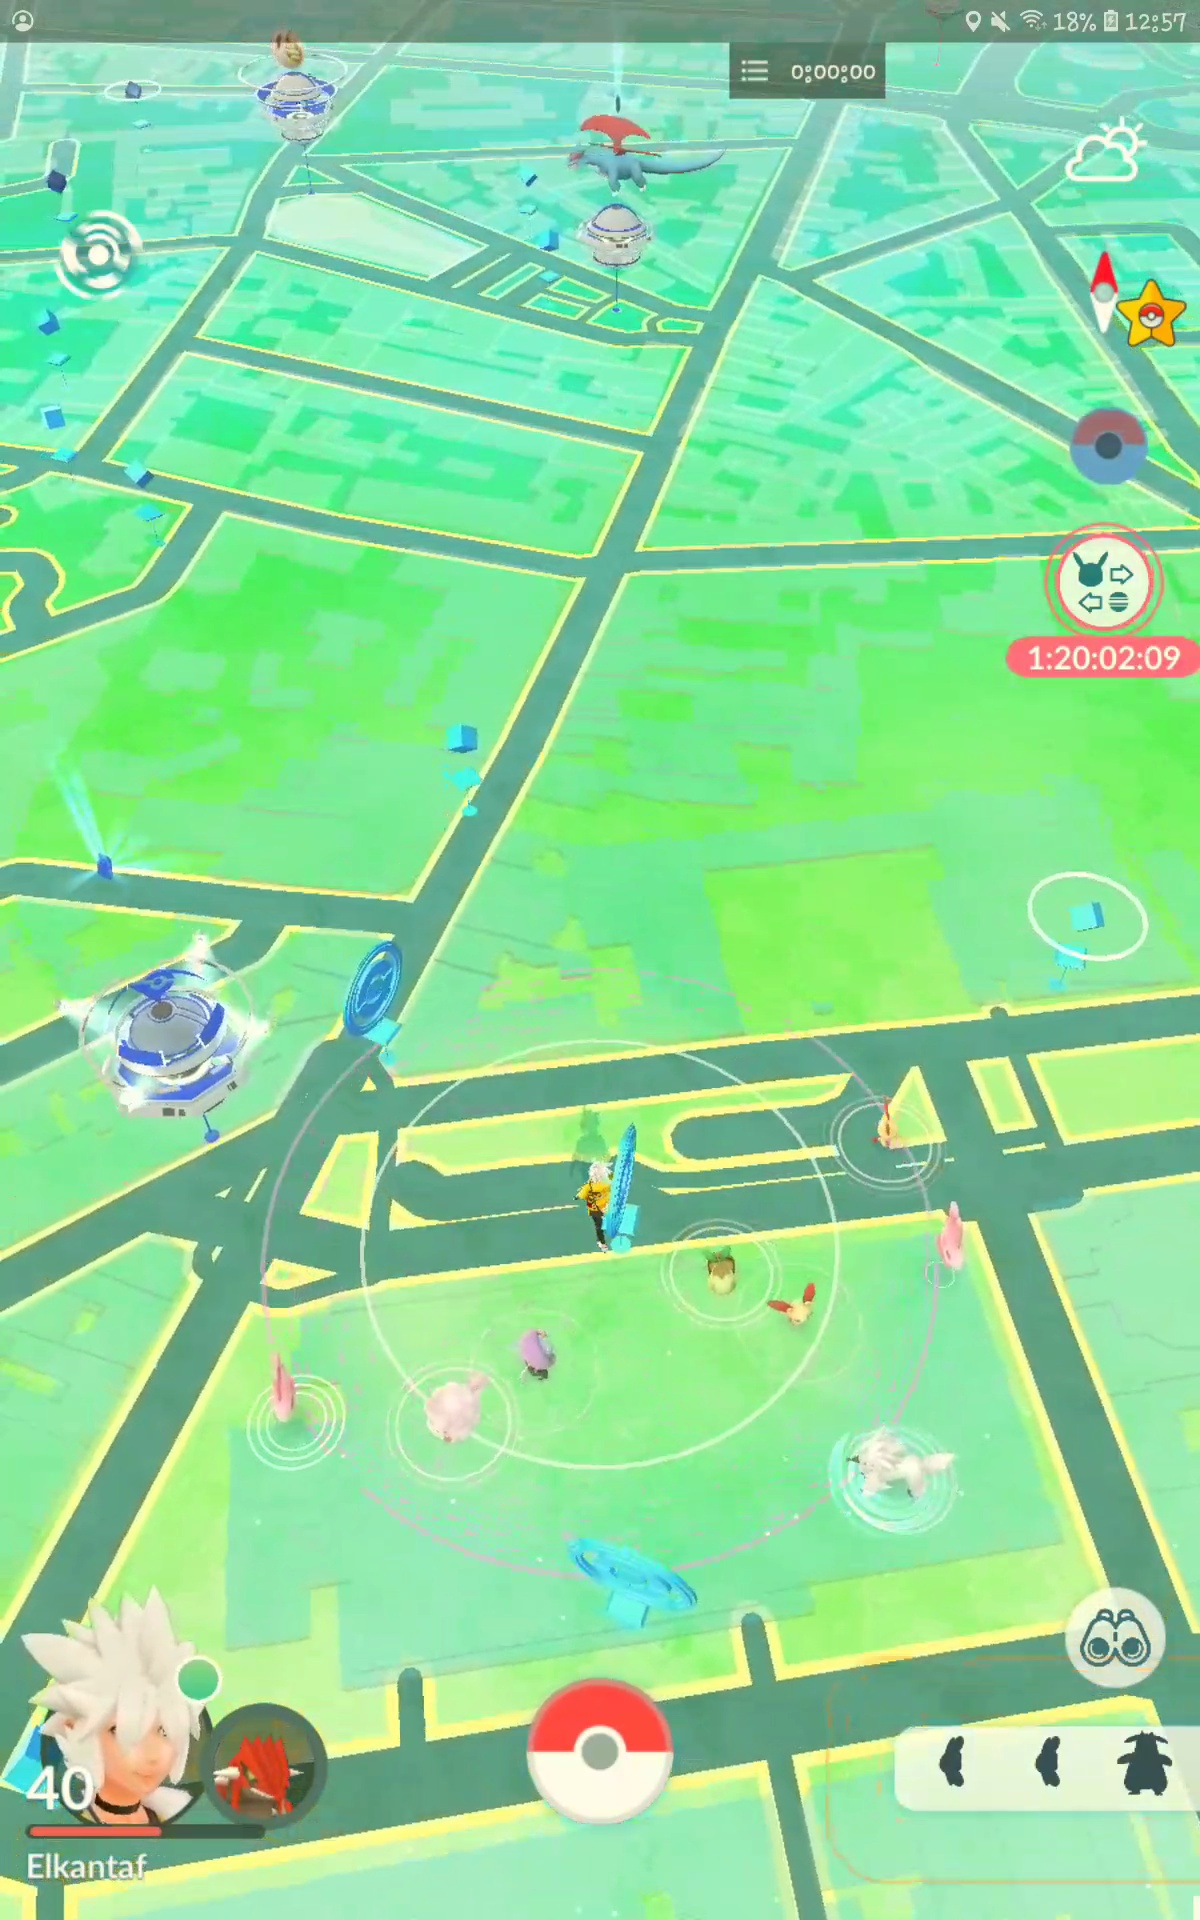Pokemon: (841, 1421, 966, 1516), (413, 1363, 498, 1451), (691, 1236, 752, 1303), (760, 1277, 827, 1334), (264, 1345, 303, 1432), (864, 1091, 914, 1158), (512, 1323, 561, 1388)
